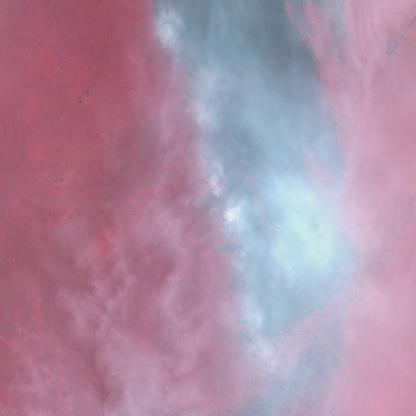fire: (150, 9, 272, 361)
